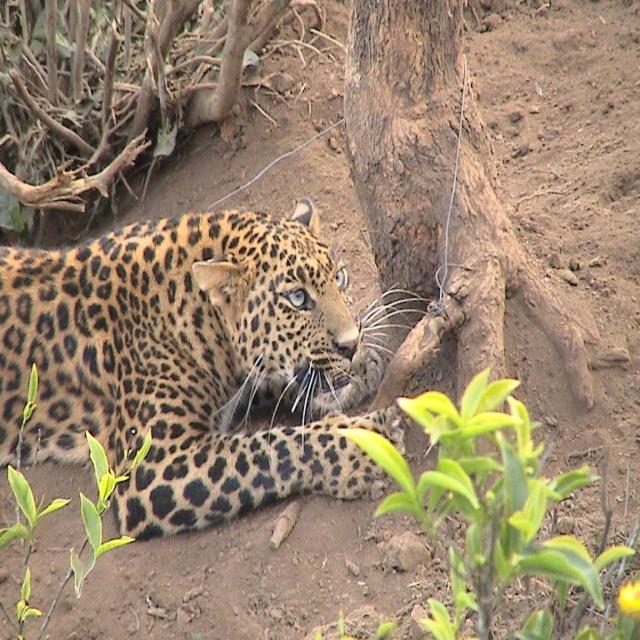Leopard: (3, 201, 406, 538)
